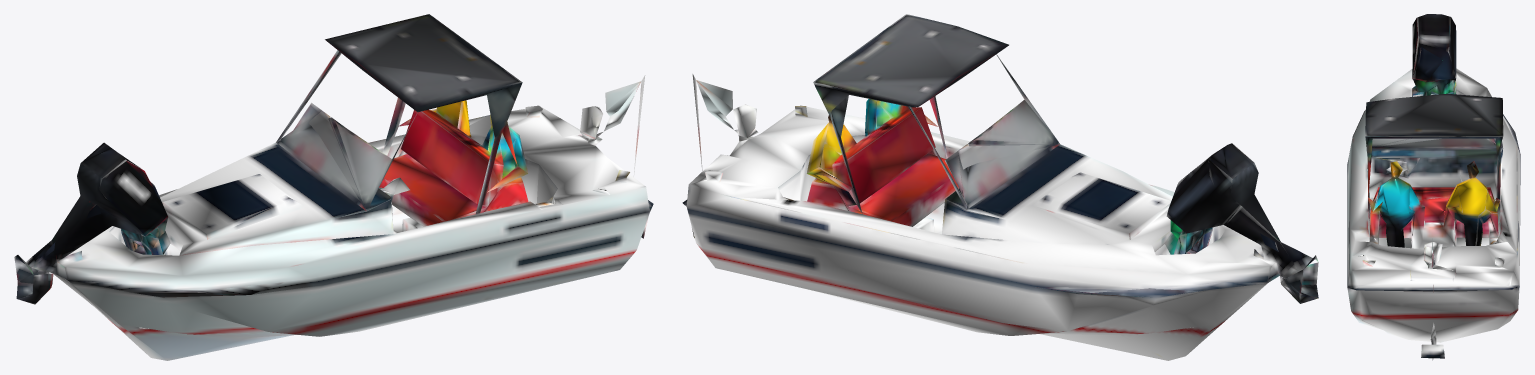
File: flottille_vedette.glb
3 views of the same model, side by side, from view 1: azimuth 30°, elevation 25°; view 2: azimuth 150°, elevation 25°; view 3: azimuth 270°, elevation 25° (orthographic). The views are drawn at different scales.
Visible parts, largest first — view 1: Mesh1.0; view 2: Mesh1.0; view 3: Mesh1.0.
Boxes of the visible parts, box(x1,y1,x2,y2) form: Mesh1.0: box(14, 14, 653, 360); Mesh1.0: box(682, 14, 1318, 360); Mesh1.0: box(1347, 14, 1520, 360).
Bounding box in the file's own units: 1.9 × 0.6841 × 0.6148.
1 material, 1 textured.
